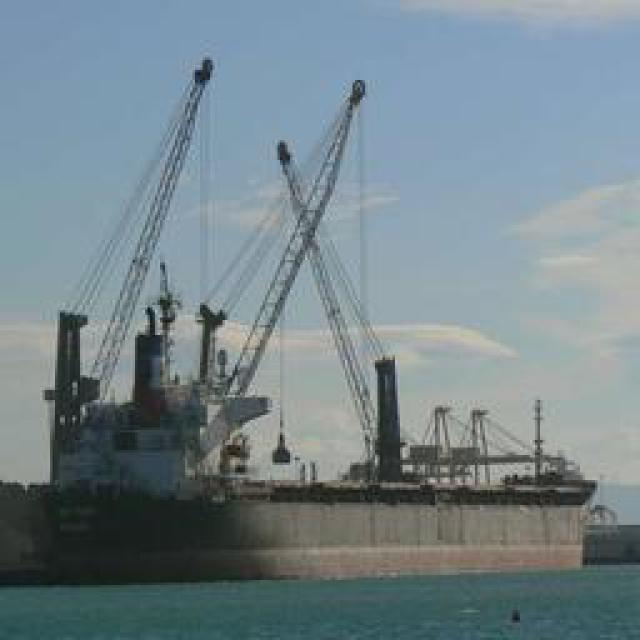Ship: (33, 59, 538, 522)
